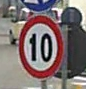limite 10: (17, 15, 64, 79)
